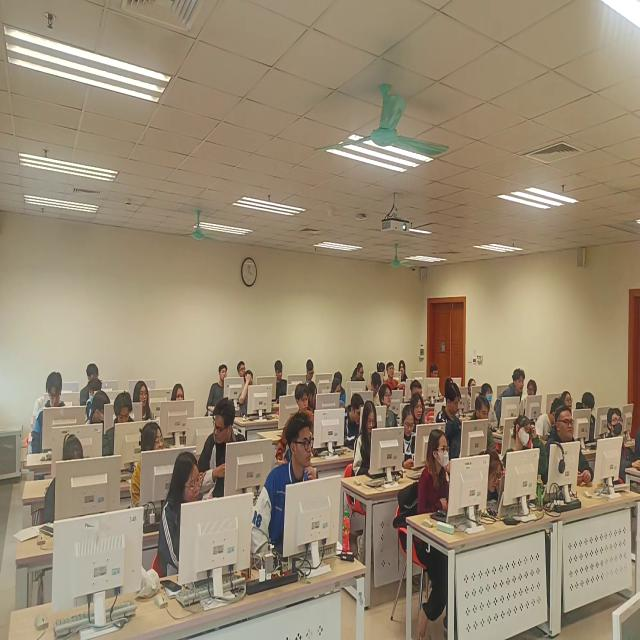raise_head: (252, 410, 321, 563), (547, 408, 595, 488), (509, 415, 548, 494), (604, 408, 640, 484), (420, 428, 451, 515), (500, 367, 526, 420), (206, 362, 228, 409), (133, 380, 155, 421), (379, 383, 398, 430), (81, 360, 102, 399), (484, 383, 498, 427), (296, 383, 314, 416), (412, 391, 426, 426), (171, 383, 189, 402), (562, 389, 576, 410), (411, 380, 425, 398), (386, 361, 396, 383), (237, 358, 248, 377), (469, 377, 479, 397), (399, 360, 410, 377), (445, 377, 454, 389)
using_computer: (159, 452, 210, 581), (50, 433, 88, 522), (35, 374, 66, 455), (437, 382, 465, 458), (105, 391, 137, 457), (354, 399, 380, 476), (470, 395, 499, 453), (339, 391, 364, 450), (485, 449, 505, 513), (401, 408, 420, 473), (536, 395, 561, 442), (581, 390, 601, 439), (239, 370, 257, 418), (305, 357, 322, 382), (331, 377, 344, 408), (351, 359, 367, 383), (371, 370, 382, 398), (274, 362, 285, 382), (430, 363, 442, 381), (376, 359, 386, 373)
